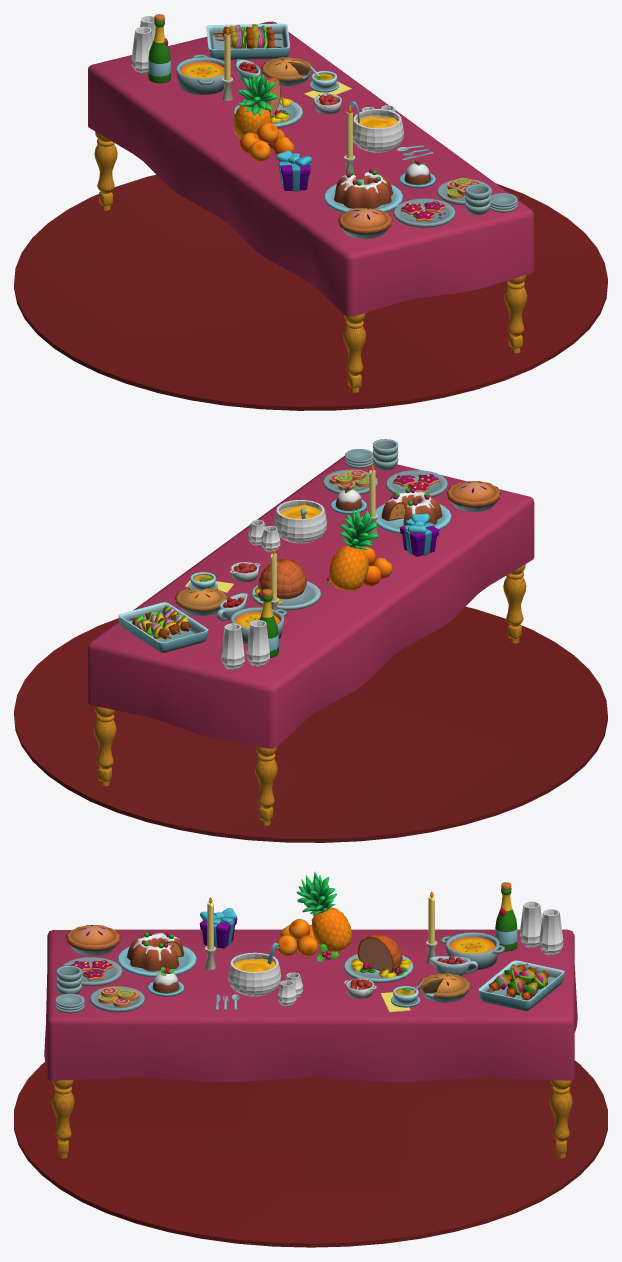
File: DineTable.fbx
The picture shows the model from 3 angles, top to bottom: view 1: azimuth 30°, elevation 25°; view 2: azimuth 150°, elevation 25°; view 3: azimuth 270°, elevation 25°; orthographic projection.
Visible parts, largest first — view 1: DineTable; view 2: DineTable; view 3: DineTable.
Part boxes in pixels (bbox=[...]): DineTable: bbox=[14, 14, 607, 410]; DineTable: bbox=[14, 439, 607, 842]; DineTable: bbox=[14, 871, 607, 1247].
Bounding box in the file's own units: 3.55 × 1.46 × 3.55.
